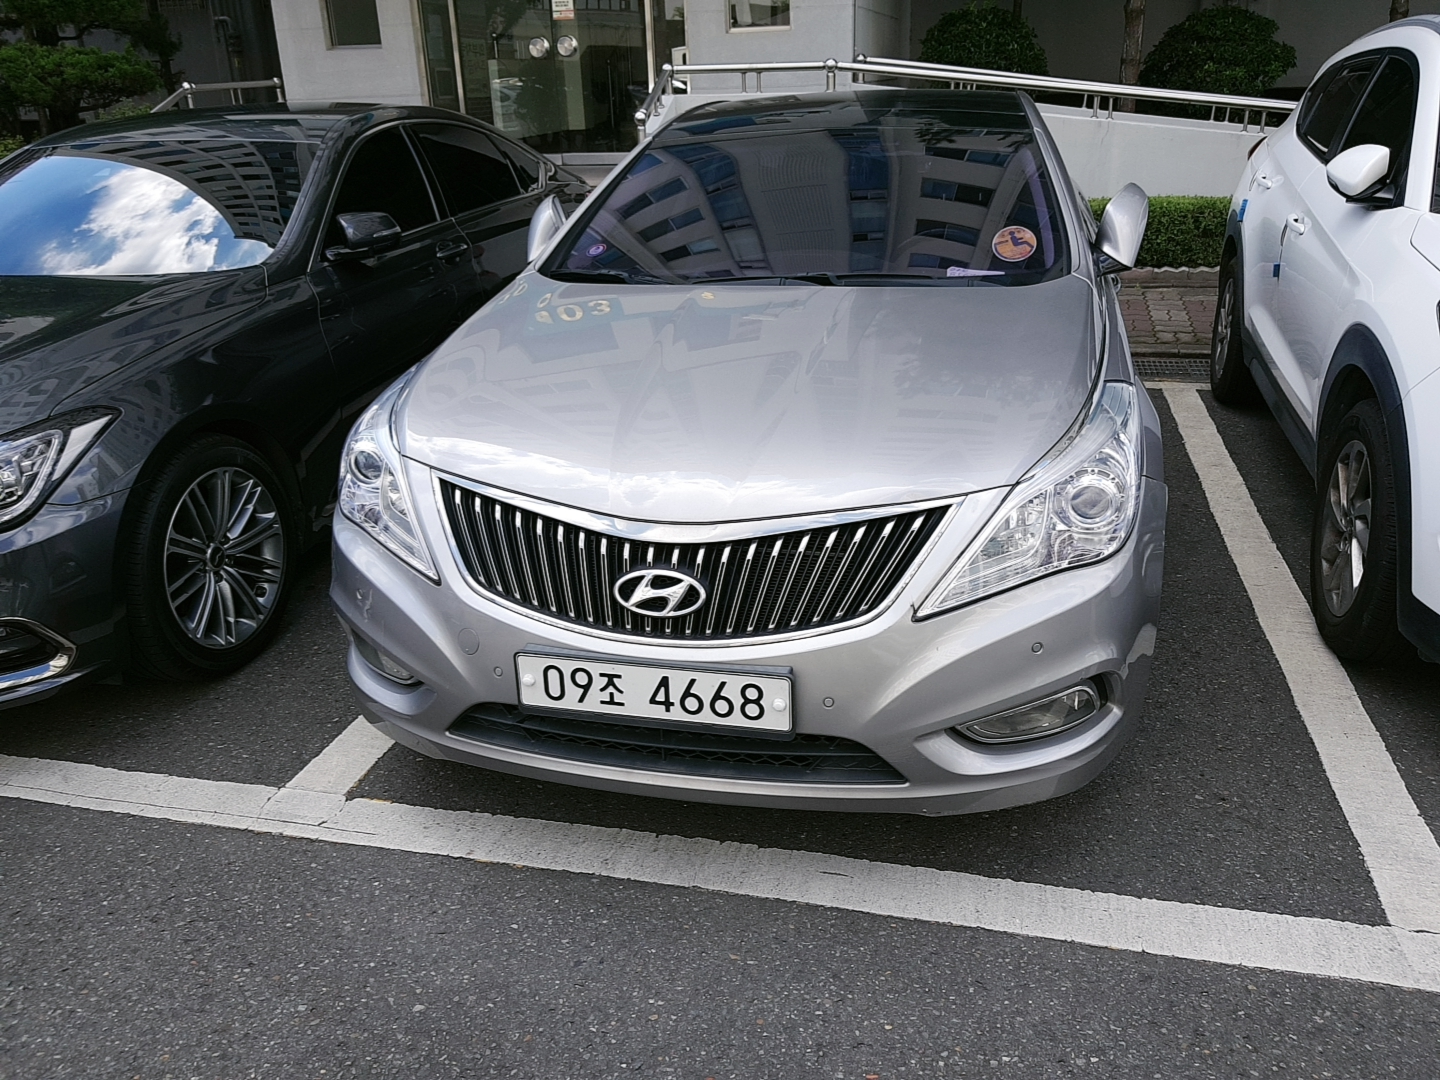disabled_parking: (985, 220, 1047, 262)
